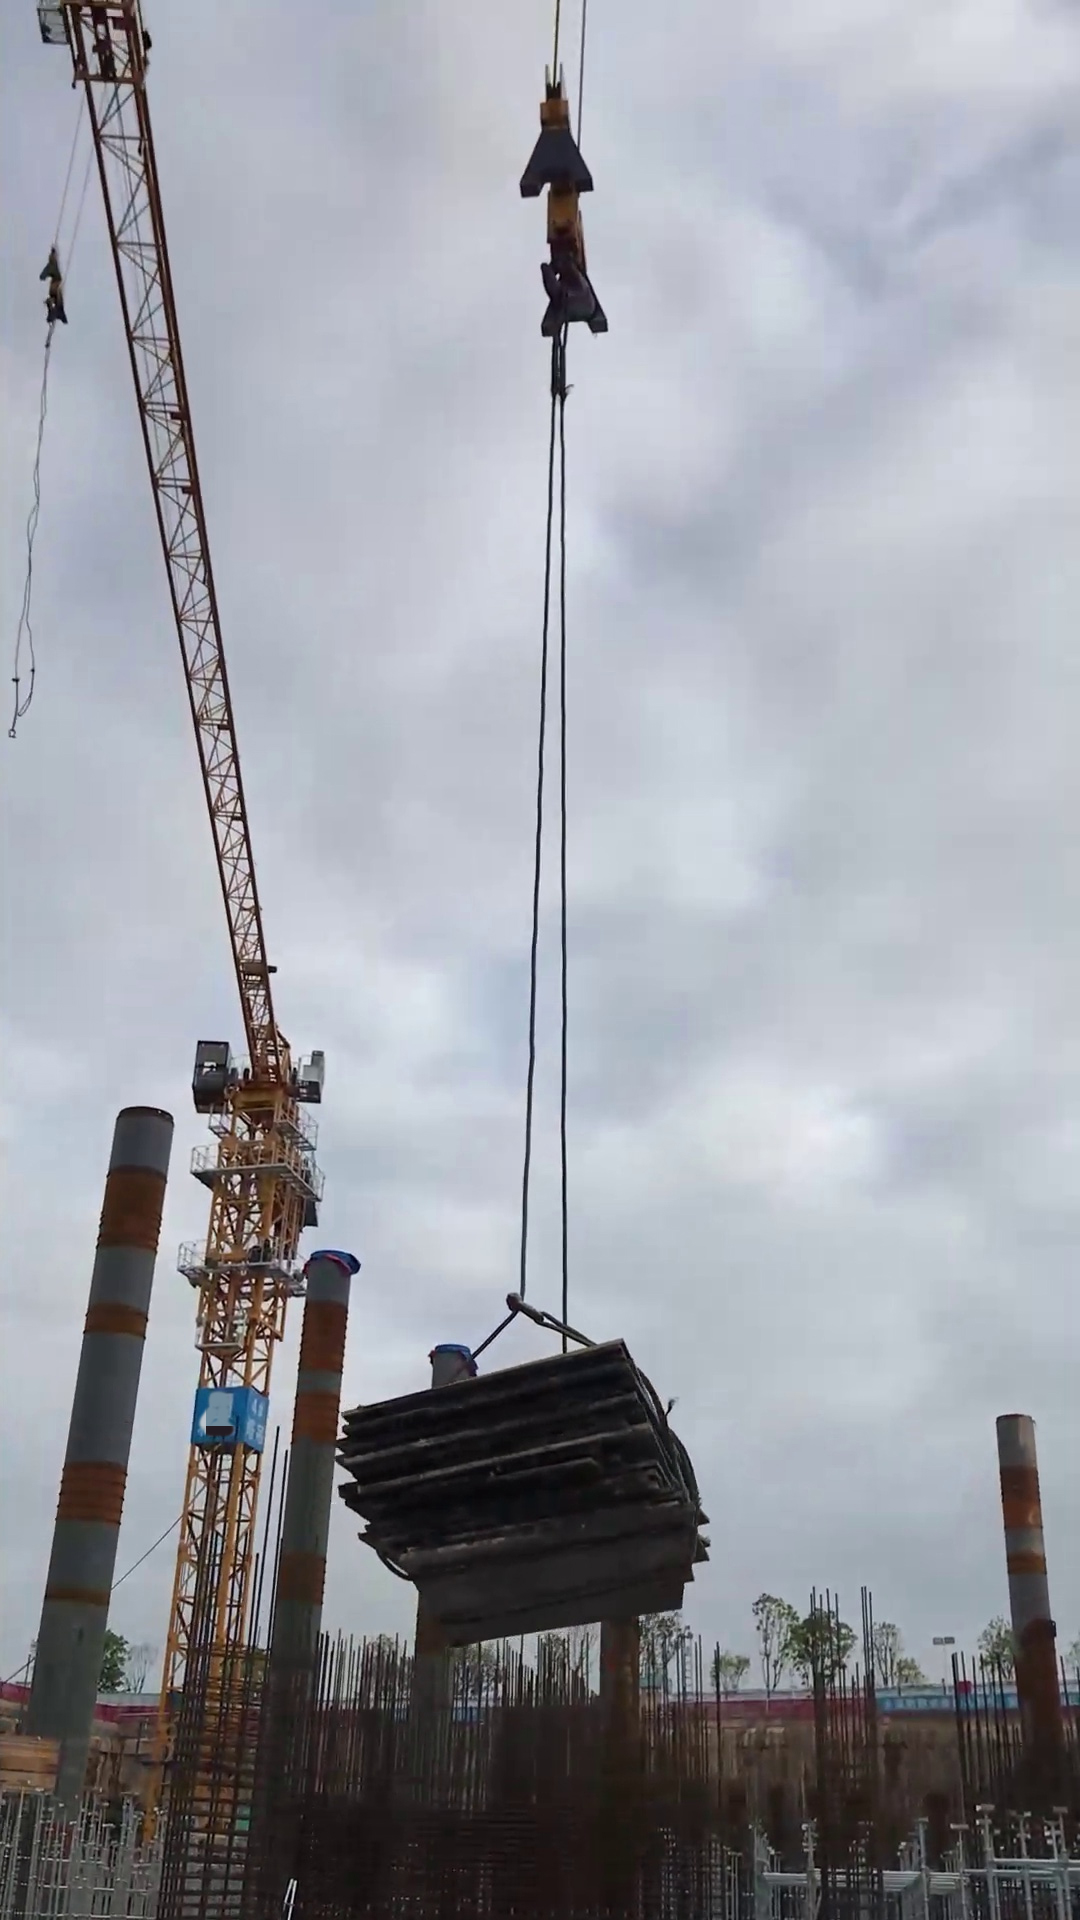board: (335, 1325, 740, 1663)
hook: (480, 53, 636, 367), (36, 232, 76, 339)
